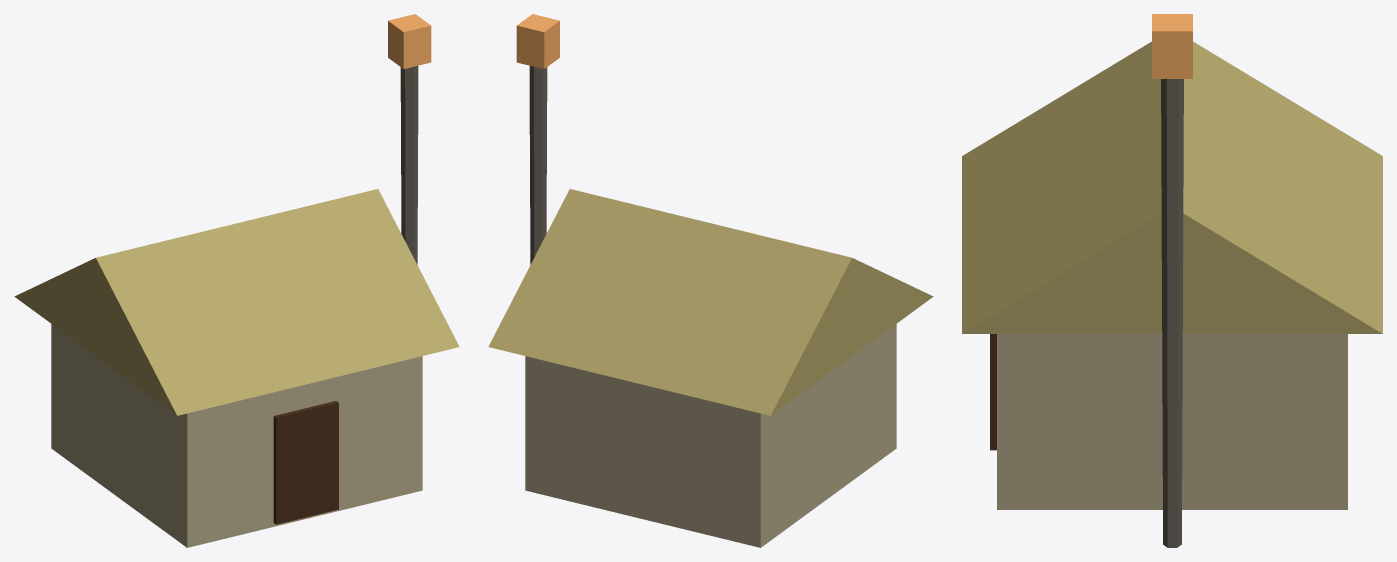
File: harbor_lamp_hut.glb
3 views of the same model, side by side, from view 1: azimuth 30°, elevation 25°; view 2: azimuth 150°, elevation 25°; view 3: azimuth 270°, elevation 25° (orthographic). The views are drawn at different scales.
Parts seen in each view (by area): view 1: harbor_lamp_hut; view 2: harbor_lamp_hut; view 3: harbor_lamp_hut.
Boxes of the visible parts, bbox=[...] form: harbor_lamp_hut: bbox=[14, 14, 459, 547]; harbor_lamp_hut: bbox=[488, 14, 933, 547]; harbor_lamp_hut: bbox=[962, 14, 1382, 547].
Bounding box in the file's own units: 4.17 × 4.92 × 3.6.
